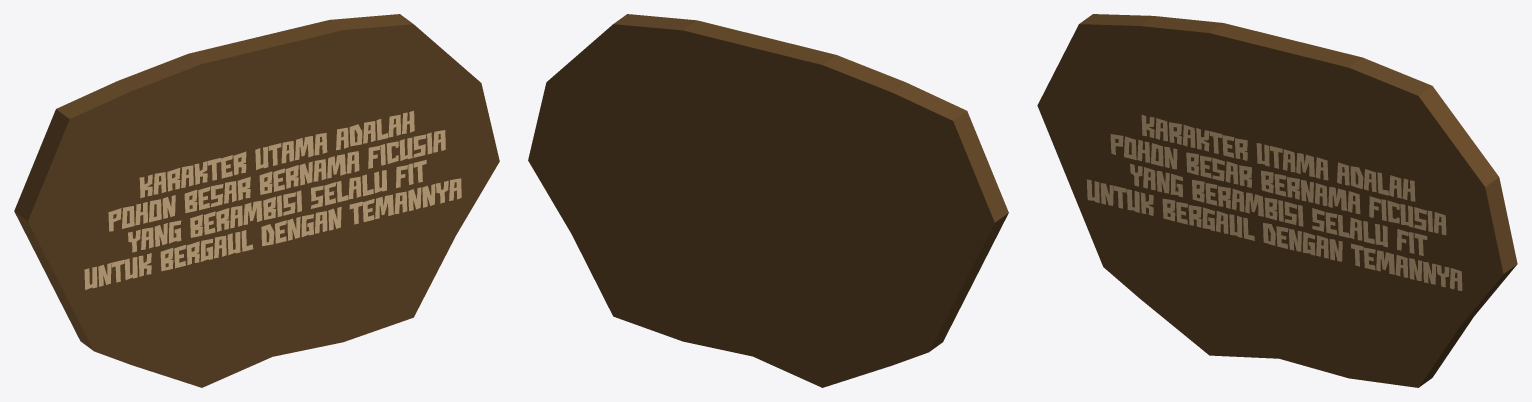
File: ui_3_ficusia.fbx
3 renders of one model, left to right at view 1: azimuth 30°, elevation 25°; view 2: azimuth 150°, elevation 25°; view 3: azimuth 330°, elevation 25°, orthographic.
Visible parts, largest first — view 1: Cube.003, Text.002; view 2: Cube.003; view 3: Cube.003, Text.002.
Boxes of the visible parts, x1=… form: Cube.003: x1=14, y1=14, x2=499, y2=387; Text.002: x1=84, y1=110, x2=461, y2=289; Cube.003: x1=528, y1=14, x2=1008, y2=387; Cube.003: x1=1037, y1=14, x2=1517, y2=387; Text.002: x1=1086, y1=114, x2=1462, y2=290.
Bounding box in the file's own units: 256 × 168 × 16.5.
